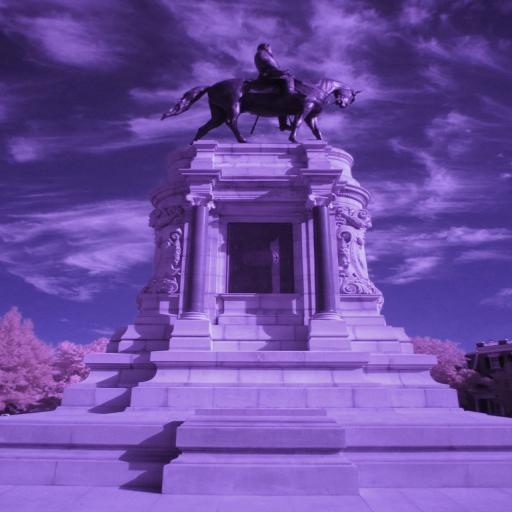horse: (157, 76, 364, 144)
